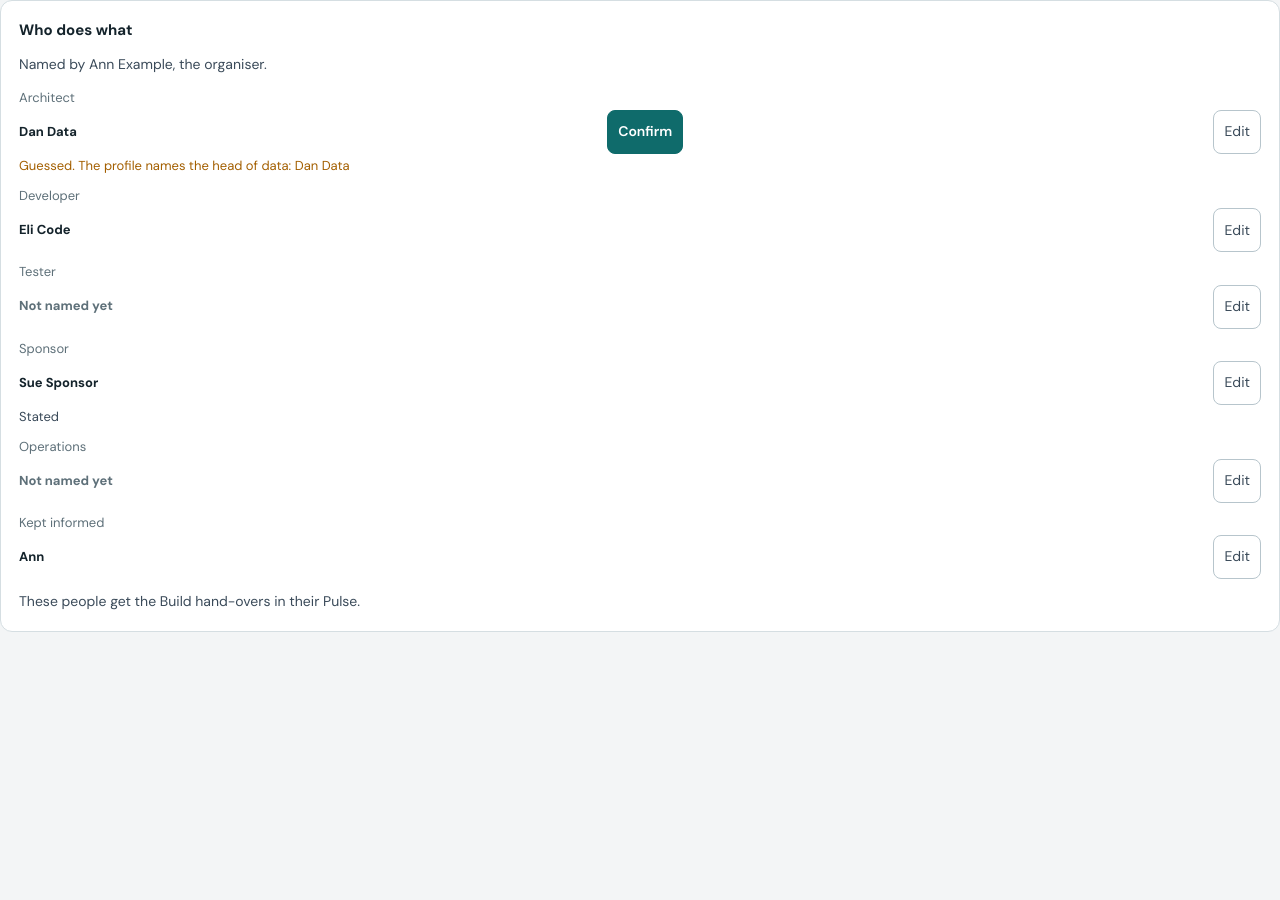
Scenario: lets the organiser name a role
Click the button with aria-label "Edit Tester" at point(1237, 306), box [1214,284,1261,328]
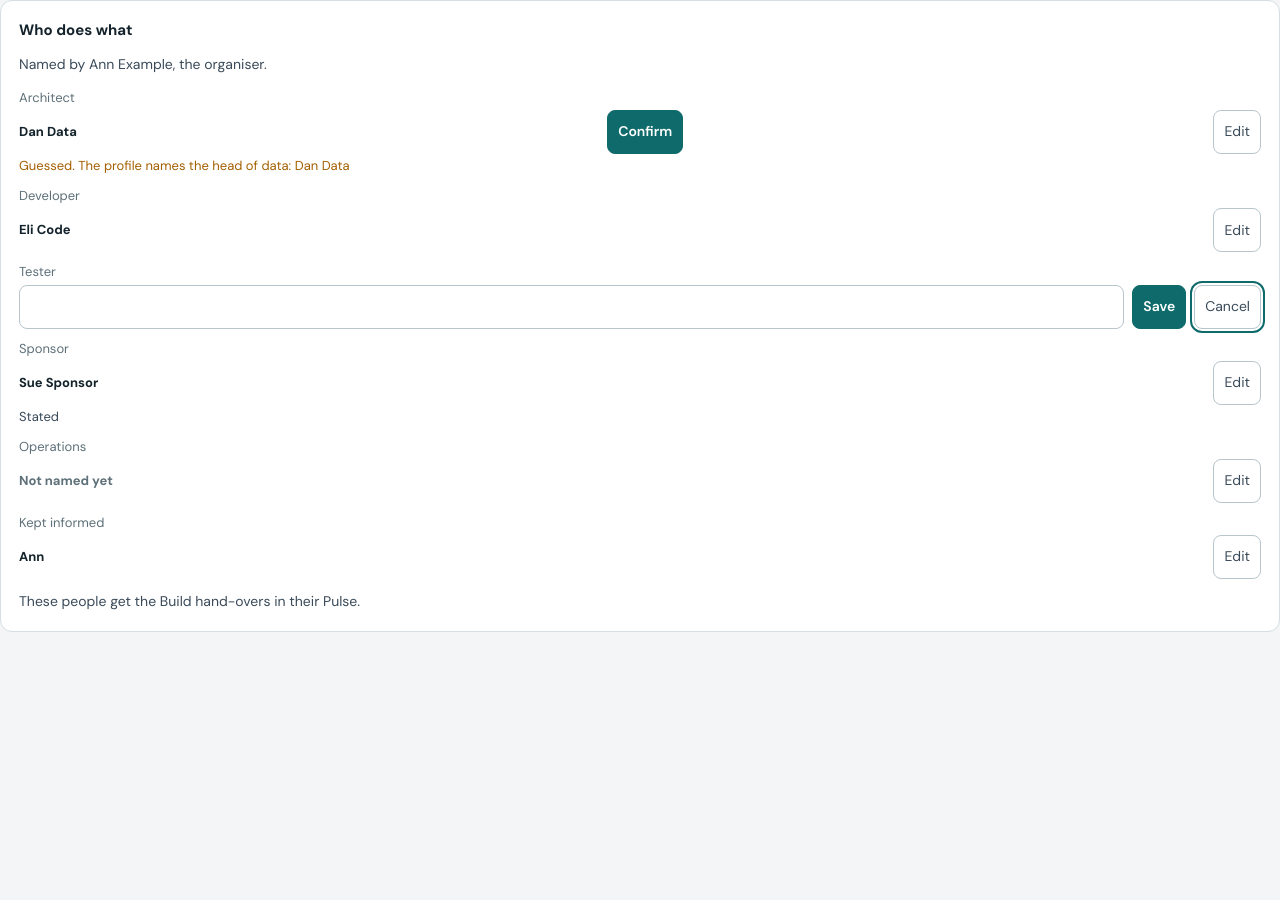
Type "Tia Test" into the field named "Tester" at point(572, 306), box [19,284,1124,328]
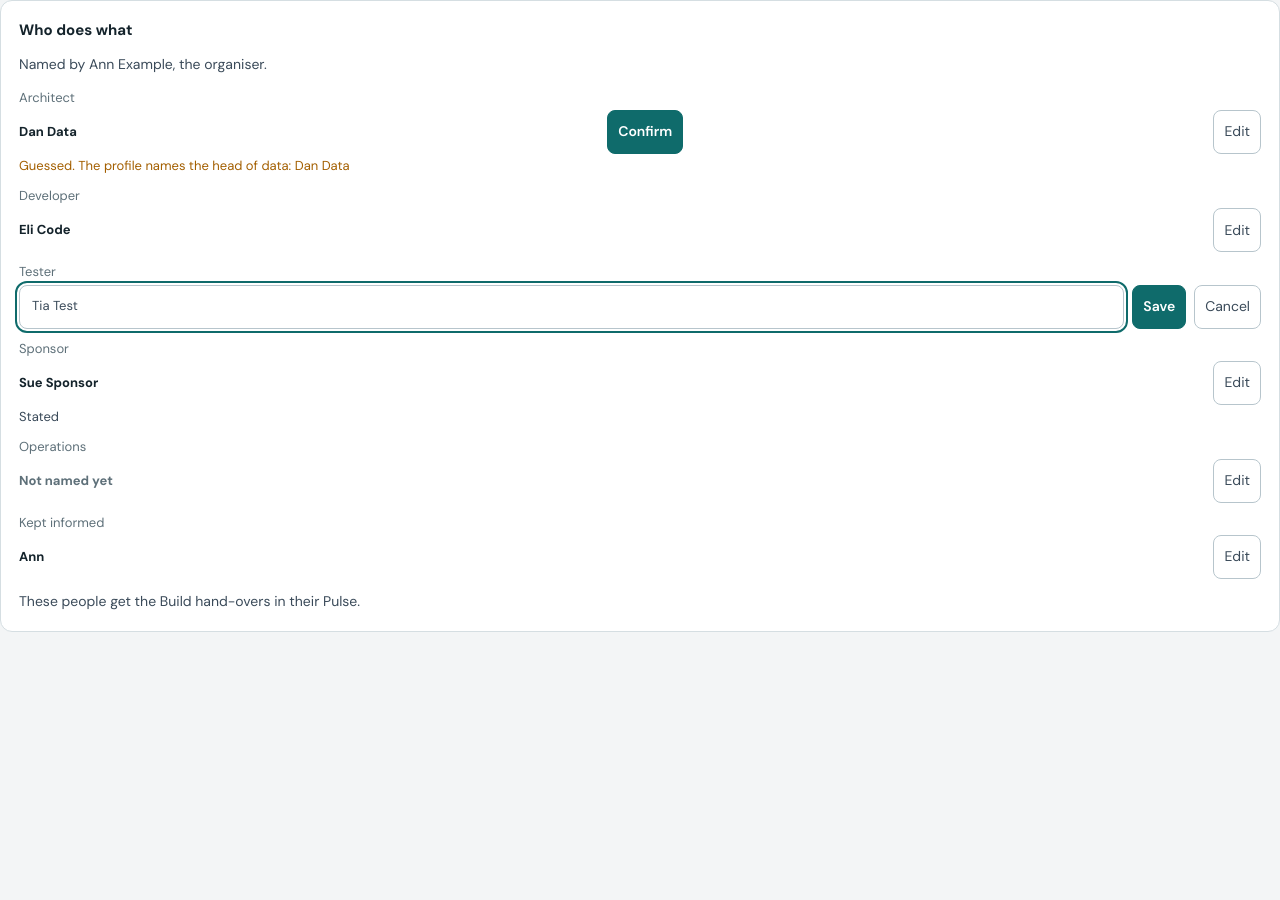
Click the button "Save" at point(1159, 306), box [1132,284,1186,328]
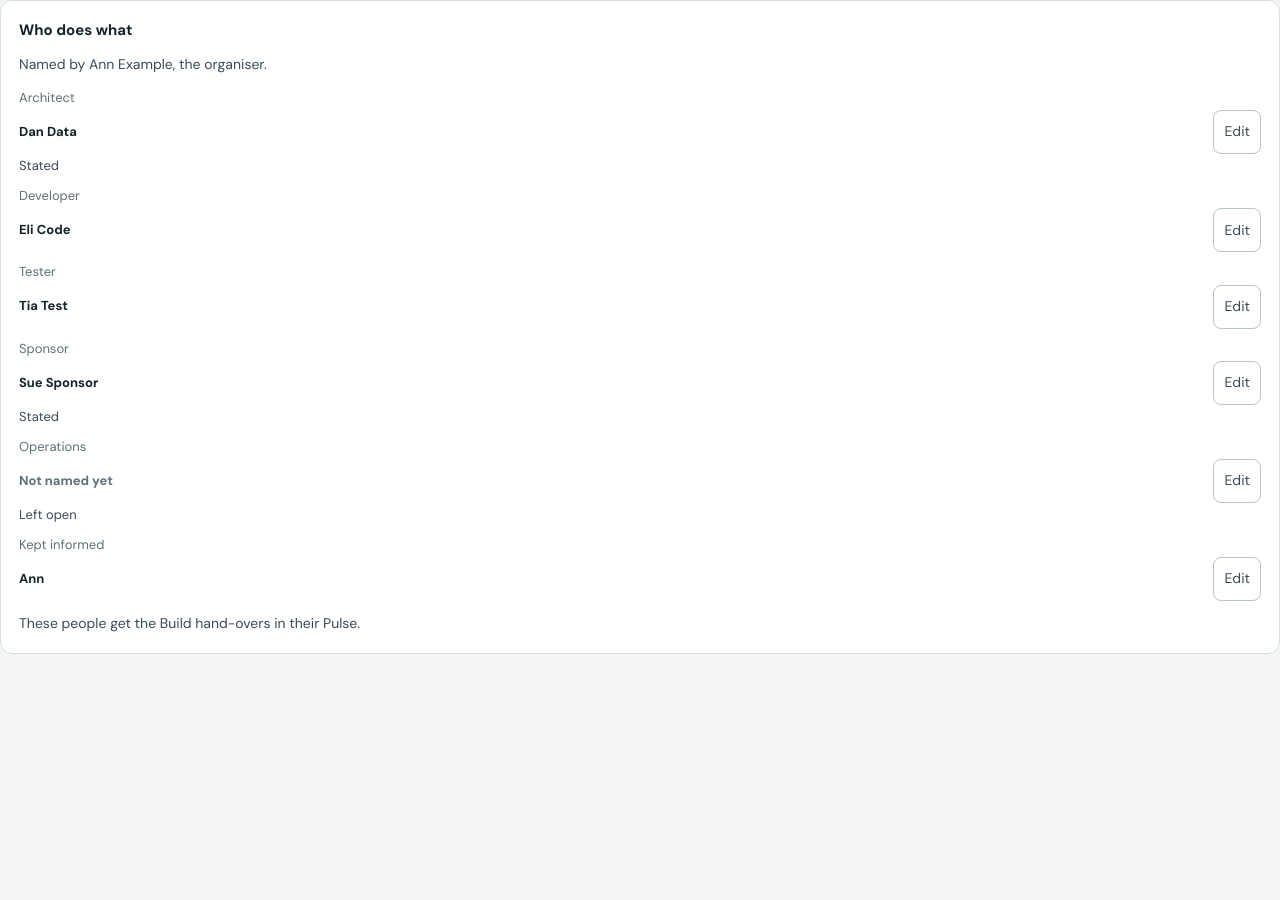
Expected: the text "Tia Test" is shown, [19,296,68,316]
